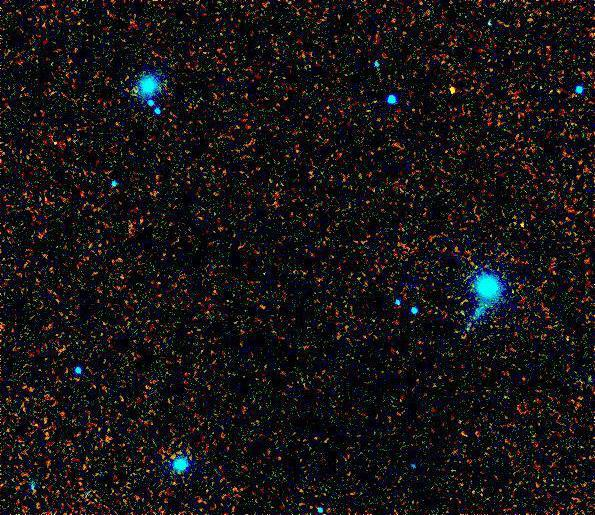star: (437, 77, 467, 107)
